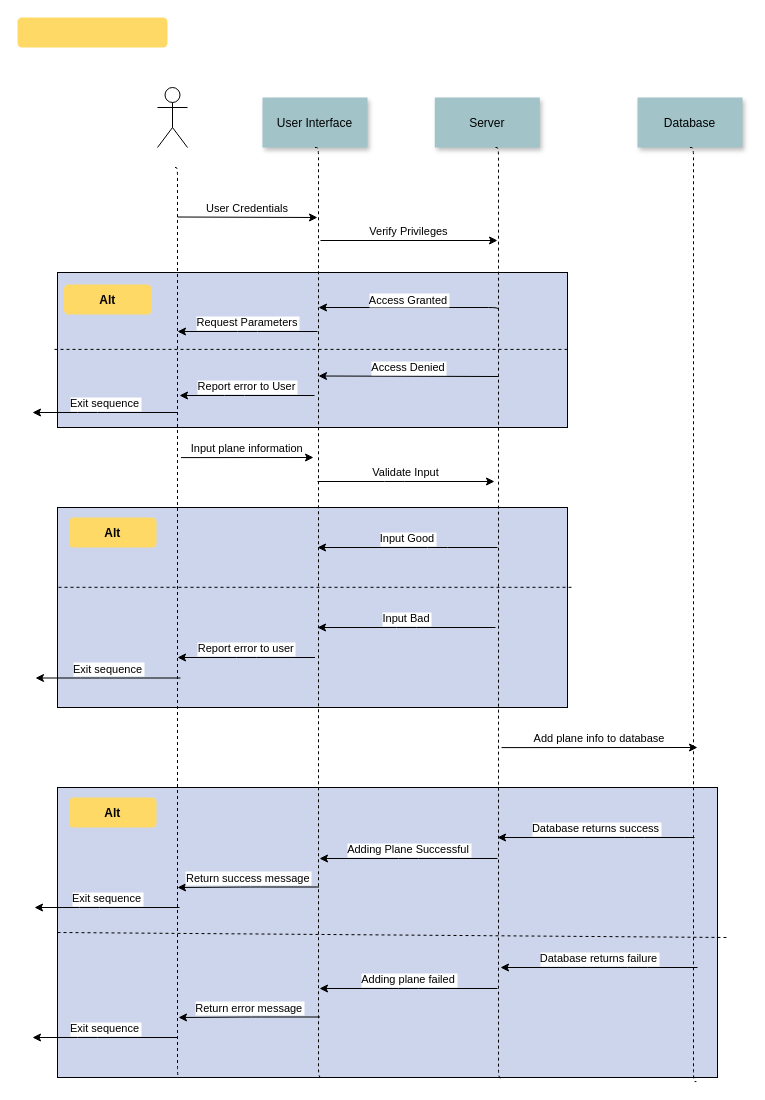
Image size: 765x1100. Some labels were removed from this diagram. Here are the shapes that lost their labels. From the top down, the centre of each, then its label:
the point at 92,32: Plane Creation Sequence
the point at 172,117: App User
